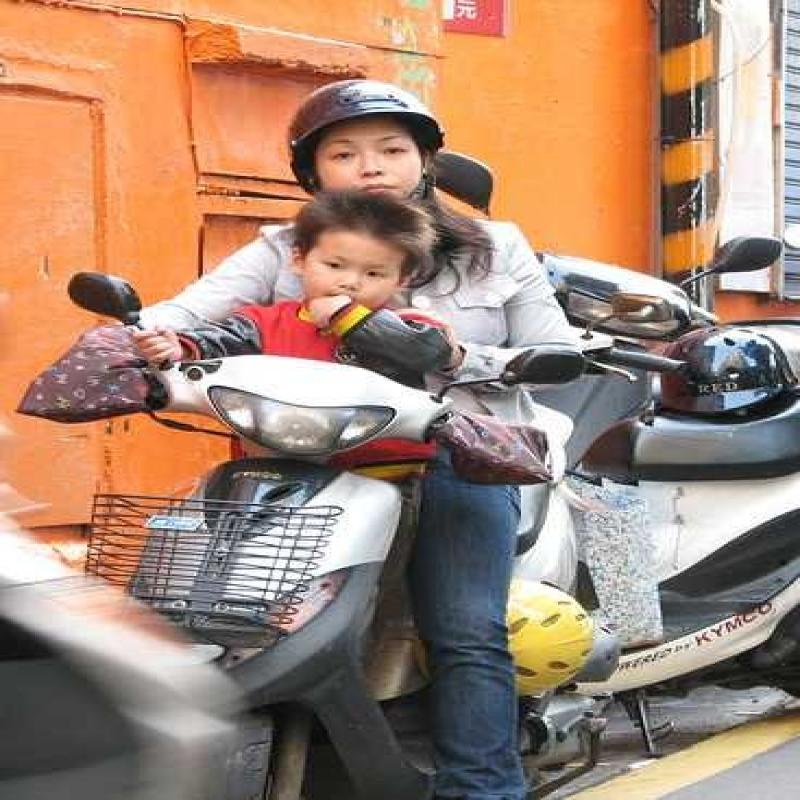bike: (109, 302, 480, 800)
